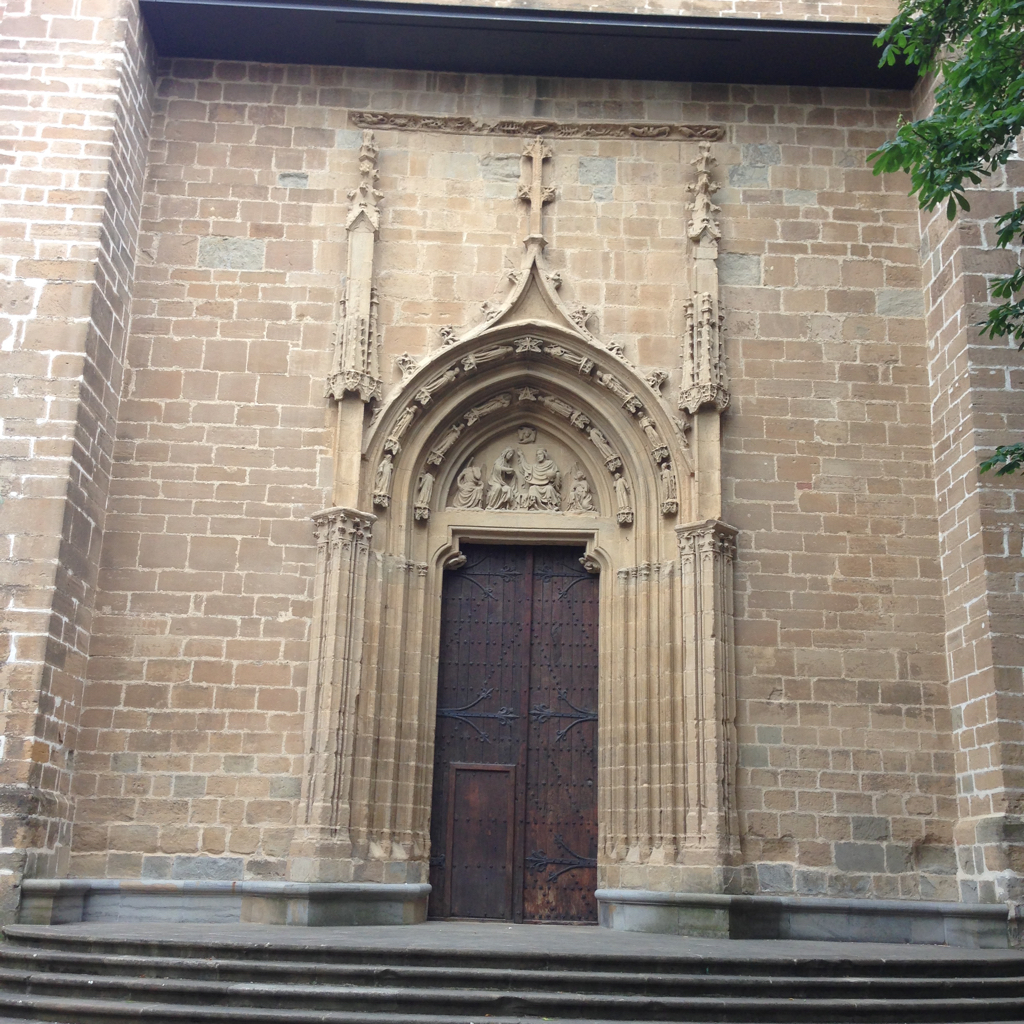arco-apuntado: (381, 329, 660, 525)
arco-conopial: (426, 255, 624, 357)
